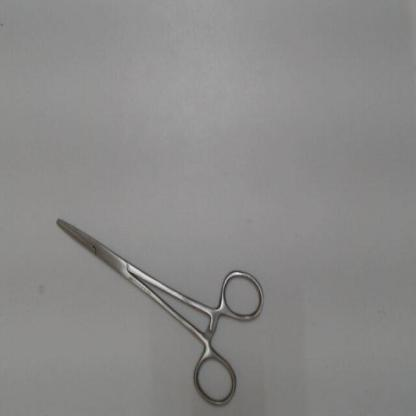Mayo Needle Holder: (47, 203, 271, 413)
